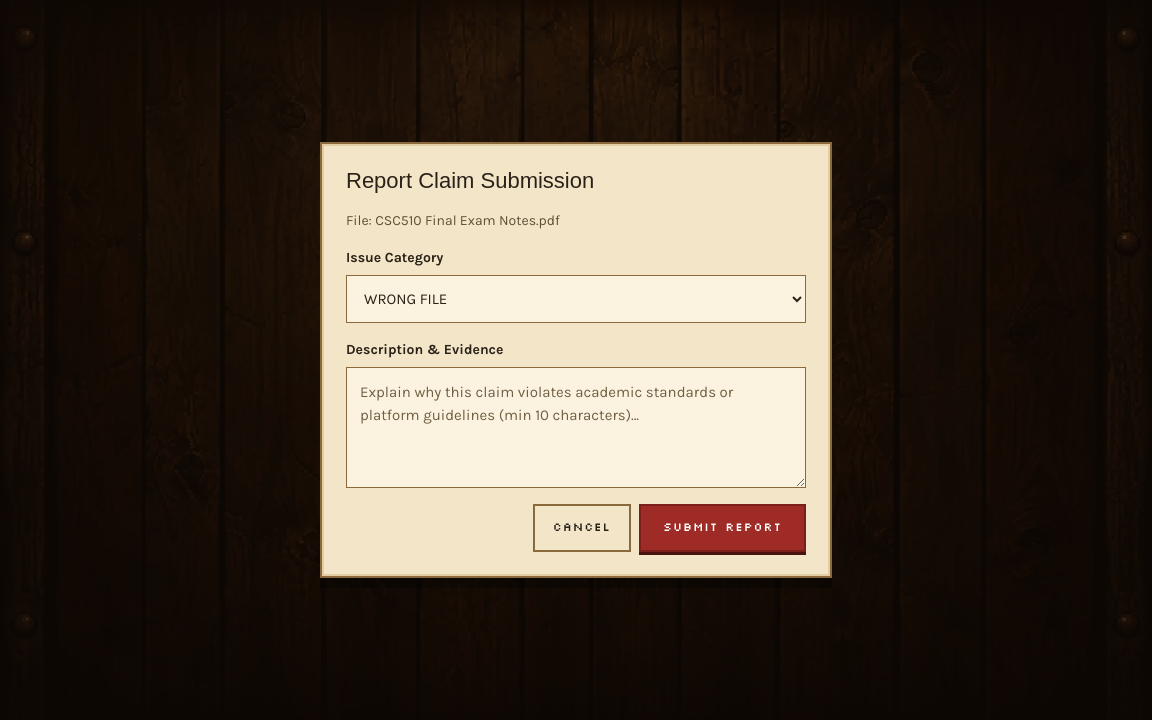
Test: ReportClaimModal › renders when open and displays high-risk warning on personal_data selection
Expected: the text "File: CSC510 Final Exam Notes.pdf" is shown, left=346, top=212, right=560, bottom=229
Select "PERSONAL DATA" in the dropdown labelled "Issue Category" at (576, 299), box left=346, top=275, right=806, bottom=323
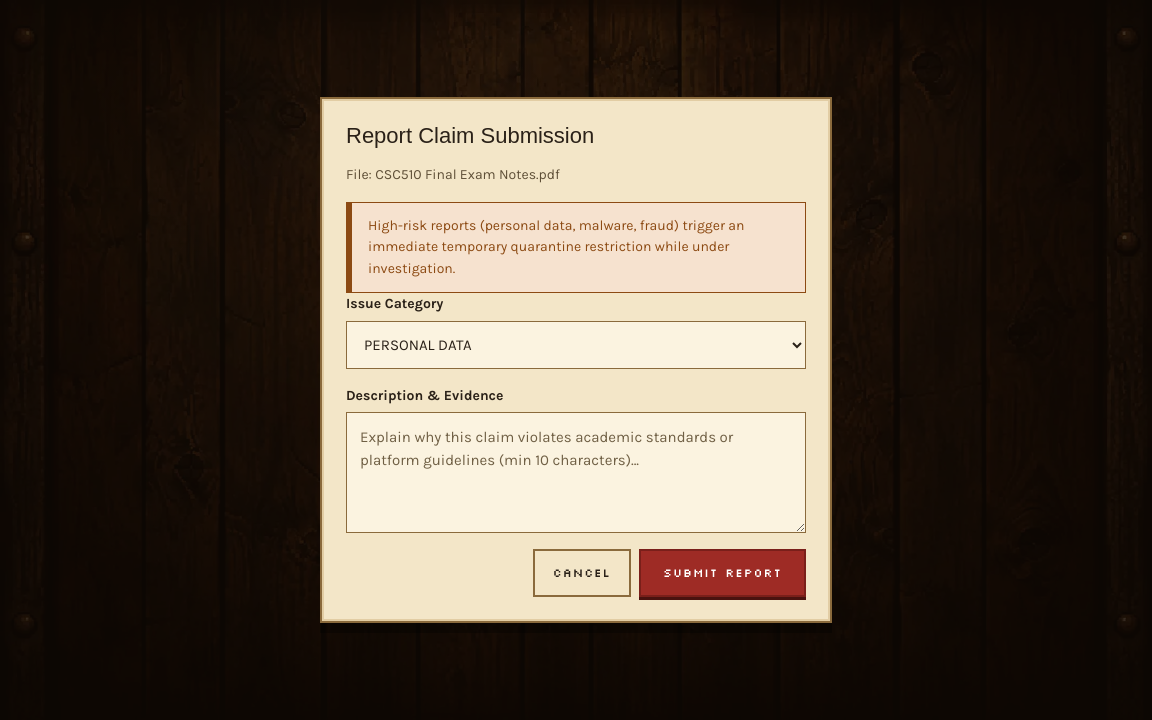
Expected: the text "High-risk reports (personal data, malware, fraud) trigger an immediate" is shown, left=368, top=217, right=744, bottom=277
